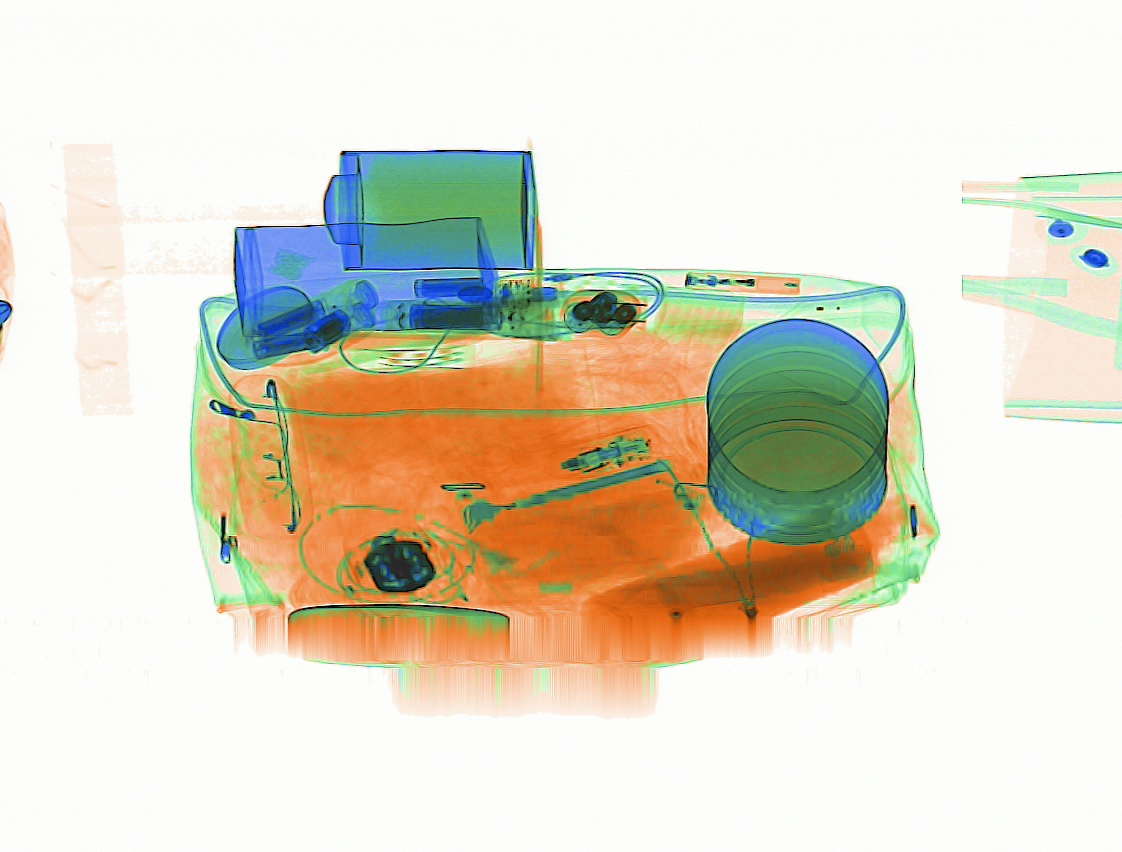lighter: (682, 267, 803, 296)
